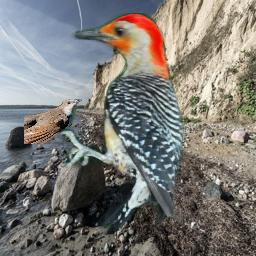Cuckoo: (24, 99, 82, 144)
Woodpecker: (60, 13, 188, 231)
